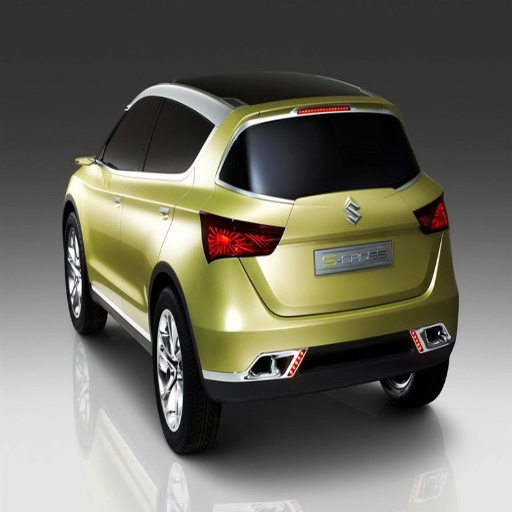back_bumper: (184, 232, 459, 395)
back_glass: (231, 115, 417, 198)
back_left_door: (111, 170, 158, 277)
back_left_light: (200, 213, 268, 259)
tailgate: (262, 181, 412, 226), (260, 274, 306, 311)
trunk: (234, 183, 435, 313)
